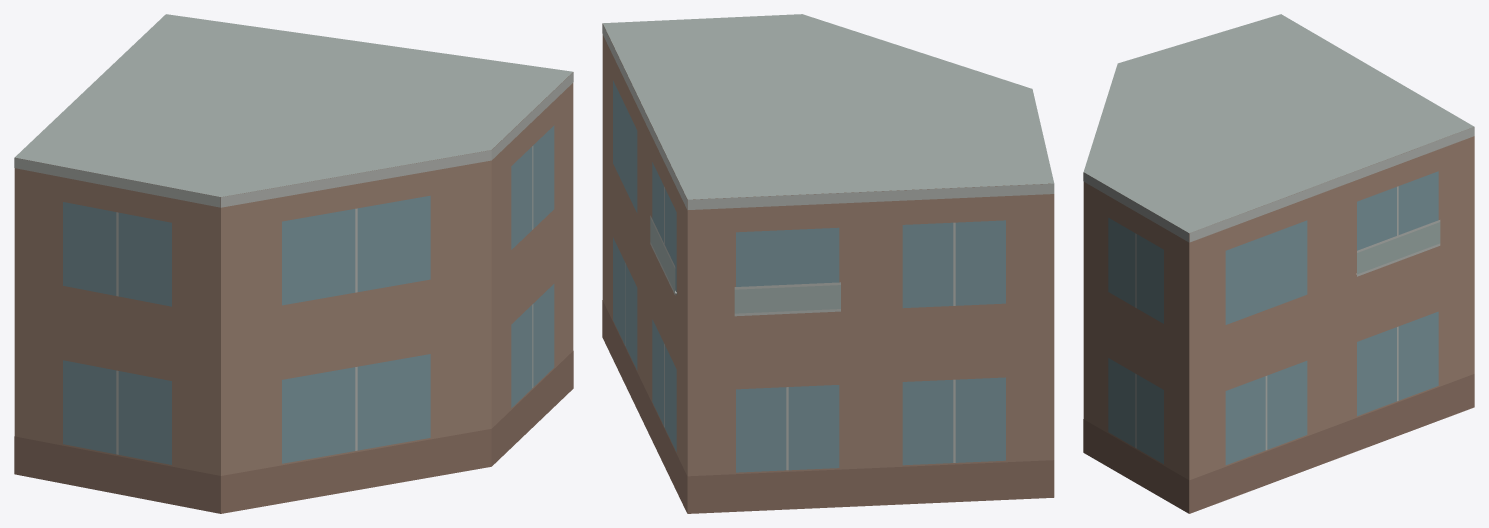
The model's file is survey-upis-32928683.glb.
3 views of the same model, side by side, from view 1: azimuth 30°, elevation 25°; view 2: azimuth 150°, elevation 25°; view 3: azimuth 270°, elevation 25° (orthographic). The views are drawn at different scales.
Visible parts, largest first — view 1: survey-upis-32928683.tmp; view 2: survey-upis-32928683.tmp; view 3: survey-upis-32928683.tmp.
Part boxes in pixels (left/top/right/bottom): survey-upis-32928683.tmp: left=14, top=14, right=573, bottom=513; survey-upis-32928683.tmp: left=602, top=14, right=1054, bottom=513; survey-upis-32928683.tmp: left=1083, top=14, right=1474, bottom=513.
Size of the model in its own units: 12.24 by 7.3 by 9.23.
